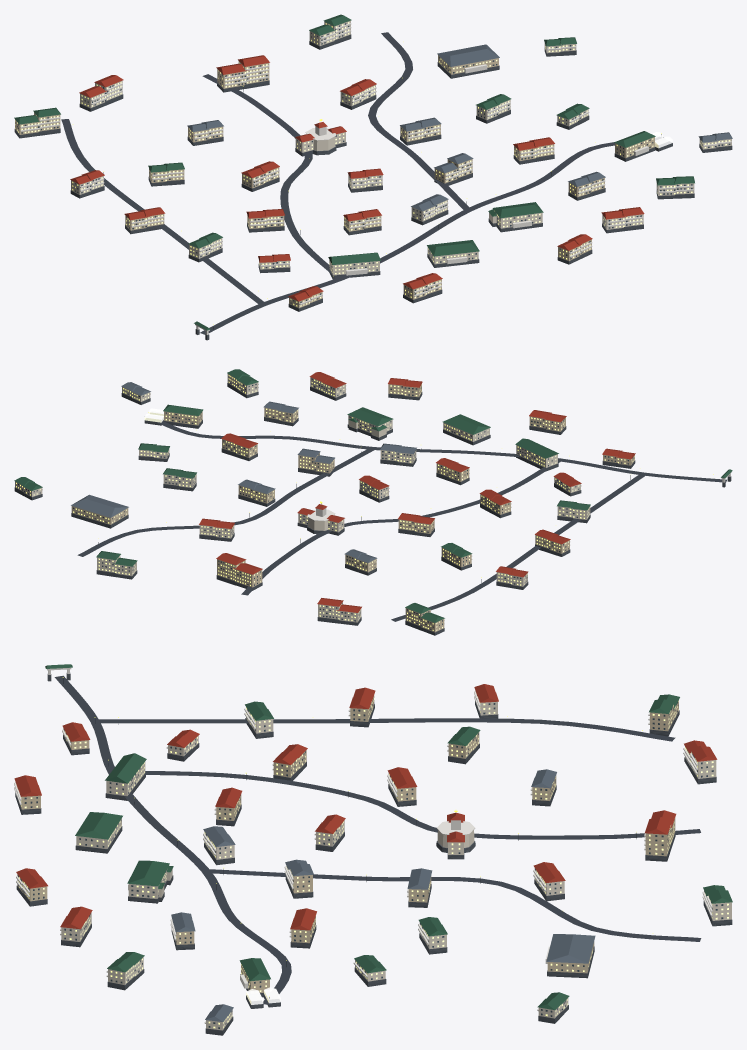
Rendered from dalat_university_35halls_T_E00_N01.glb.
The picture shows the model from 3 angles, top to bottom: view 1: azimuth 30°, elevation 25°; view 2: azimuth 150°, elevation 25°; view 3: azimuth 270°, elevation 25°; orthographic projection. The views are drawn at different scales.
Parts seen in each view (by area): view 1: DLU_Campus_Internal_Roads, DLU_35Halls_StoneFoundations_Neg3m, DLU_35Halls_Walls_Ochre, DLU_35Halls_Walls_Ivory, DLU_35Halls_Louvers_Balconies_Gate, DLU_Roofs_RedTile, DLU_Roofs_MossGreen, DLU_Windows_NightEmissive, DLU_Roofs_ZincGrey, DLU_Windows_Glass; view 2: DLU_35Halls_Walls_Ochre, DLU_35Halls_Walls_Ivory, DLU_35Halls_StoneFoundations_Neg3m, DLU_Campus_Internal_Roads, DLU_Roofs_RedTile, DLU_Roofs_MossGreen, DLU_Windows_NightEmissive, DLU_Roofs_ZincGrey, DLU_Windows_Glass; view 3: DLU_Campus_Internal_Roads, DLU_Roofs_RedTile, DLU_35Halls_StoneFoundations_Neg3m, DLU_35Halls_Walls_Ivory, DLU_Roofs_MossGreen, DLU_35Halls_Walls_Ochre, DLU_Roofs_ZincGrey, DLU_35Halls_Louvers_Balconies_Gate, DLU_Windows_NightEmissive, DLU_Windows_Glass.
Part boxes in pixels (box(x1,y1,x2,y2)): DLU_Campus_Internal_Roads: box(61, 32, 663, 334); DLU_35Halls_StoneFoundations_Neg3m: box(14, 34, 732, 340); DLU_35Halls_Walls_Ochre: box(15, 55, 654, 308); DLU_35Halls_Walls_Ivory: box(71, 20, 731, 275); DLU_35Halls_Louvers_Balconies_Gate: box(20, 23, 731, 334); DLU_Roofs_RedTile: box(70, 55, 644, 301); DLU_Roofs_MossGreen: box(14, 14, 694, 330); DLU_Windows_NightEmissive: box(15, 22, 730, 306); DLU_Roofs_ZincGrey: box(187, 44, 732, 211); DLU_Windows_Glass: box(17, 23, 730, 303); DLU_35Halls_Walls_Ochre: box(71, 384, 634, 632); DLU_35Halls_Walls_Ivory: box(15, 374, 590, 622); DLU_35Halls_StoneFoundations_Neg3m: box(14, 383, 731, 635); DLU_Campus_Internal_Roads: box(77, 421, 726, 621); DLU_Roofs_RedTile: box(199, 372, 635, 612); DLU_Roofs_MossGreen: box(14, 369, 732, 622); DLU_Windows_NightEmissive: box(16, 375, 634, 630); DLU_Roofs_ZincGrey: box(71, 382, 416, 562); DLU_Windows_Glass: box(18, 378, 633, 629); DLU_Campus_Internal_Roads: box(54, 675, 701, 1004); DLU_Roofs_RedTile: box(14, 684, 717, 930); DLU_35Halls_StoneFoundations_Neg3m: box(15, 673, 732, 1035); DLU_35Halls_Walls_Ivory: box(61, 701, 731, 1030); DLU_Roofs_MossGreen: box(45, 664, 732, 1010); DLU_35Halls_Walls_Ochre: box(17, 695, 678, 992); DLU_Roofs_ZincGrey: box(171, 769, 595, 1021); DLU_35Halls_Louvers_Balconies_Gate: box(14, 667, 712, 1023); DLU_Windows_NightEmissive: box(18, 697, 728, 1028); DLU_Windows_Glass: box(18, 702, 723, 1028).
Size of the model in its own units: 633 by 31.69 by 538.
Materials: 13 (1 with a texture image).
